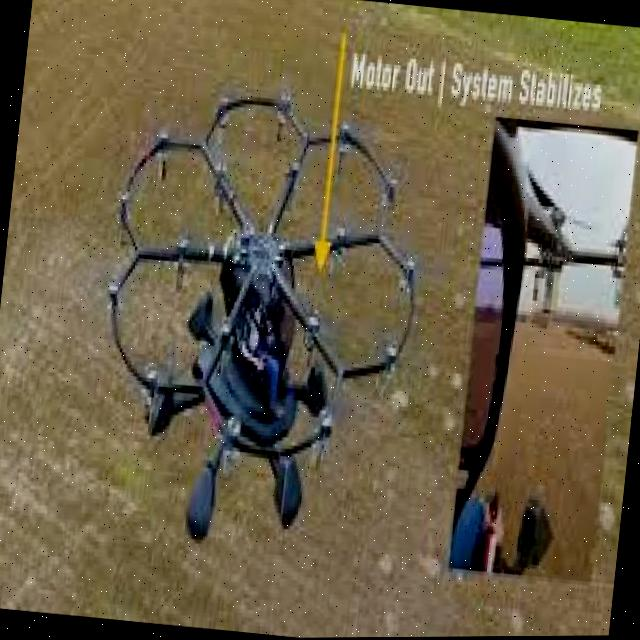drone: (66, 48, 443, 582)
